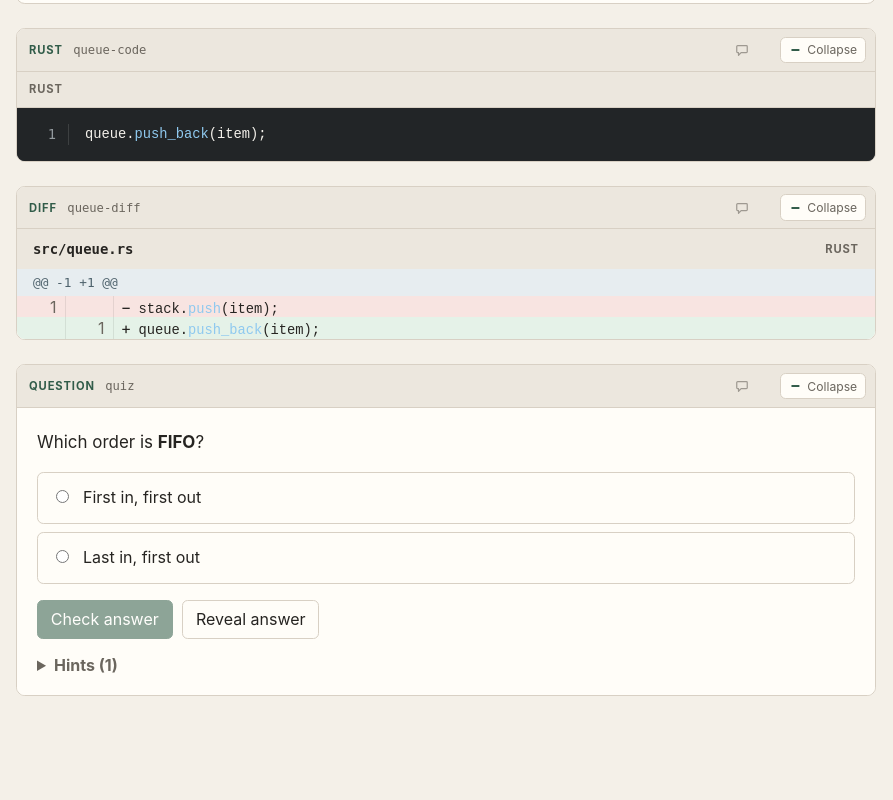
Test case: App › explicitly reveals an answer and accepts a full-state replacement
(page scrolled)
Step 1. Click the button "Reveal answer" → (251, 619), box [182,600,319,639]
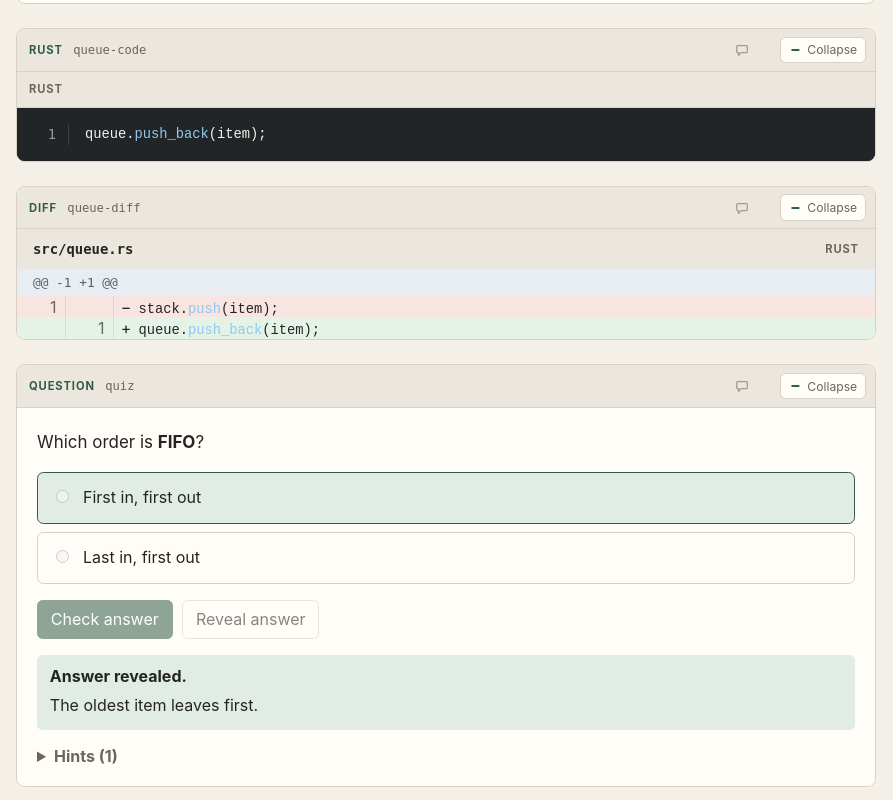
Expected: the text "Answer revealed." is shown, [50,666,187,686]
Expected: the text "The oldest item leaves first." is shown, [50,695,258,715]
